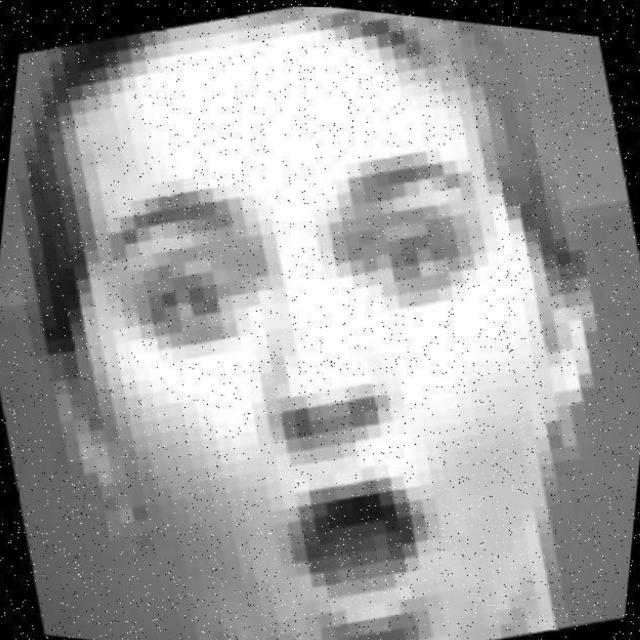Surprised: (48, 67, 583, 640)
